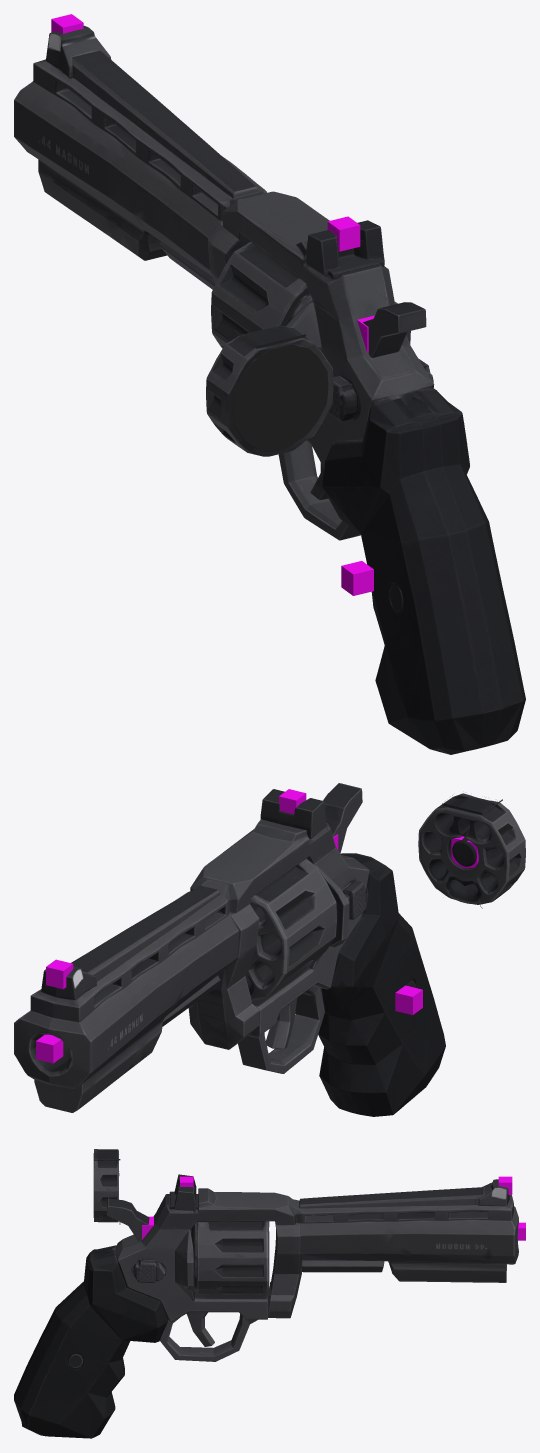
The model's file is Revolver.glb.
3 views of the same model, one above another, from view 1: azimuth 30°, elevation 25°; view 2: azimuth 150°, elevation 25°; view 3: azimuth 270°, elevation 25° (orthographic). The views are drawn at different scales.
Parts seen in each view (by area): view 1: Skin_Body_13, Skin_Body_02, Skin_Body_12, Loader_05, Skin_Body_01, Skin_Body_03, Skin_Body_11, Skin_Body_05, Skin_Body_08, Skin_Body_10, Skin_Body_04, Cylinder_03 (+9 smaller); view 2: Skin_Body_12, Skin_Body_02, Skin_Body_01, Skin_Body_03, Skin_Body_04, Skin_Body_05, Loader_01, Skin_Body_13, Cylinder_03, Skin_Body_08, Loader_03, Skin_Body_11 (+16 smaller); view 3: Skin_Body_02, Skin_Body_13, Skin_Body_12, Skin_Body_01, Skin_Body_03, Skin_Body_04, Skin_Body_05, Skin_Body_08, Cylinder_03, Skin_Body_11, Skin_Body_10, Skin_Body_07 (+9 smaller).
Boxes of the visible parts, x1,y1,x2,y2 form: Skin_Body_13: (386,468,525,754); Skin_Body_02: (58,60,227,275); Skin_Body_12: (349,370,473,727); Loader_05: (223,334,333,456); Skin_Body_01: (14,25,116,216); Skin_Body_03: (169,148,266,289); Skin_Body_11: (332,335,433,532); Skin_Body_05: (254,212,334,524); Skin_Body_08: (303,224,390,540); Skin_Body_10: (322,291,424,523); Skin_Body_04: (211,191,316,280); Cylinder_03: (215,240,289,345); Skin_Body_12: (318,853,407,1116); Skin_Body_02: (75,906,206,1087); Skin_Body_01: (14,959,124,1112); Skin_Body_03: (164,881,250,1040); Skin_Body_04: (188,852,280,1049); Skin_Body_05: (223,820,311,1073); Loader_01: (418,803,509,908); Skin_Body_13: (398,913,445,1108); Cylinder_03: (245,868,320,992); Skin_Body_08: (270,789,336,1054); Loader_03: (426,795,519,899); Skin_Body_11: (325,842,380,1047); Skin_Body_02: (340,1188,472,1282); Skin_Body_13: (14,1282,86,1437); Skin_Body_12: (79,1239,124,1438); Skin_Body_01: (460,1179,518,1282); Skin_Body_03: (285,1195,353,1313); Skin_Body_04: (243,1192,295,1326); Skin_Body_05: (196,1188,253,1361); Skin_Body_08: (162,1174,190,1360); Cylinder_03: (219,1220,262,1294); Skin_Body_11: (121,1229,147,1376); Skin_Body_10: (138,1208,164,1342); Skin_Body_07: (175,1175,197,1360).
Size of the model in its own units: 0.5146 by 0.8108 by 1.49.
Materials: 2 (1 with a texture image).
